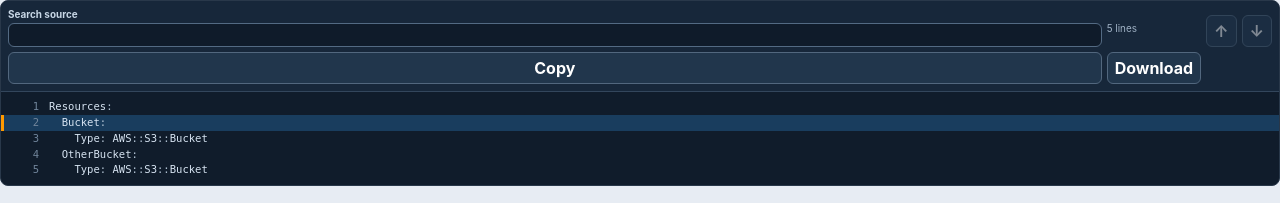
Test: accessible React UI › renders syntax-highlighted numbered source and navigates search matches
Expected: the text "5 lines" is shown, [1107,22,1137,34]
In the search field labelled "Search source": [555, 35] box [8,23,1102,47], type "Bucket"
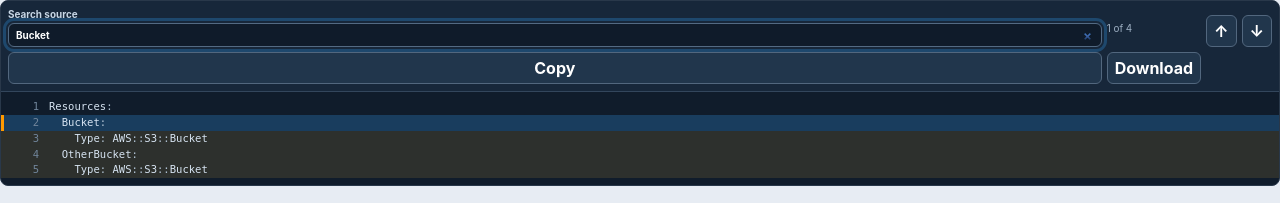
Expected: the text "1 of 4" is shown, [1107,22,1132,34]
Click the button named "Next source match": [1257, 31] box [1242,15,1272,47]
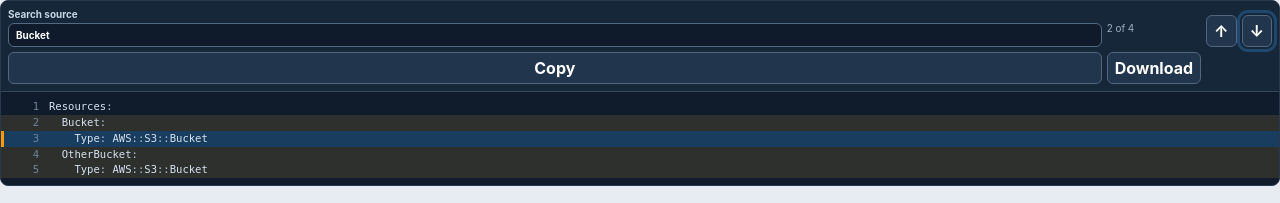
Expected: the text "2 of 4" is shown, [1107,22,1134,34]
